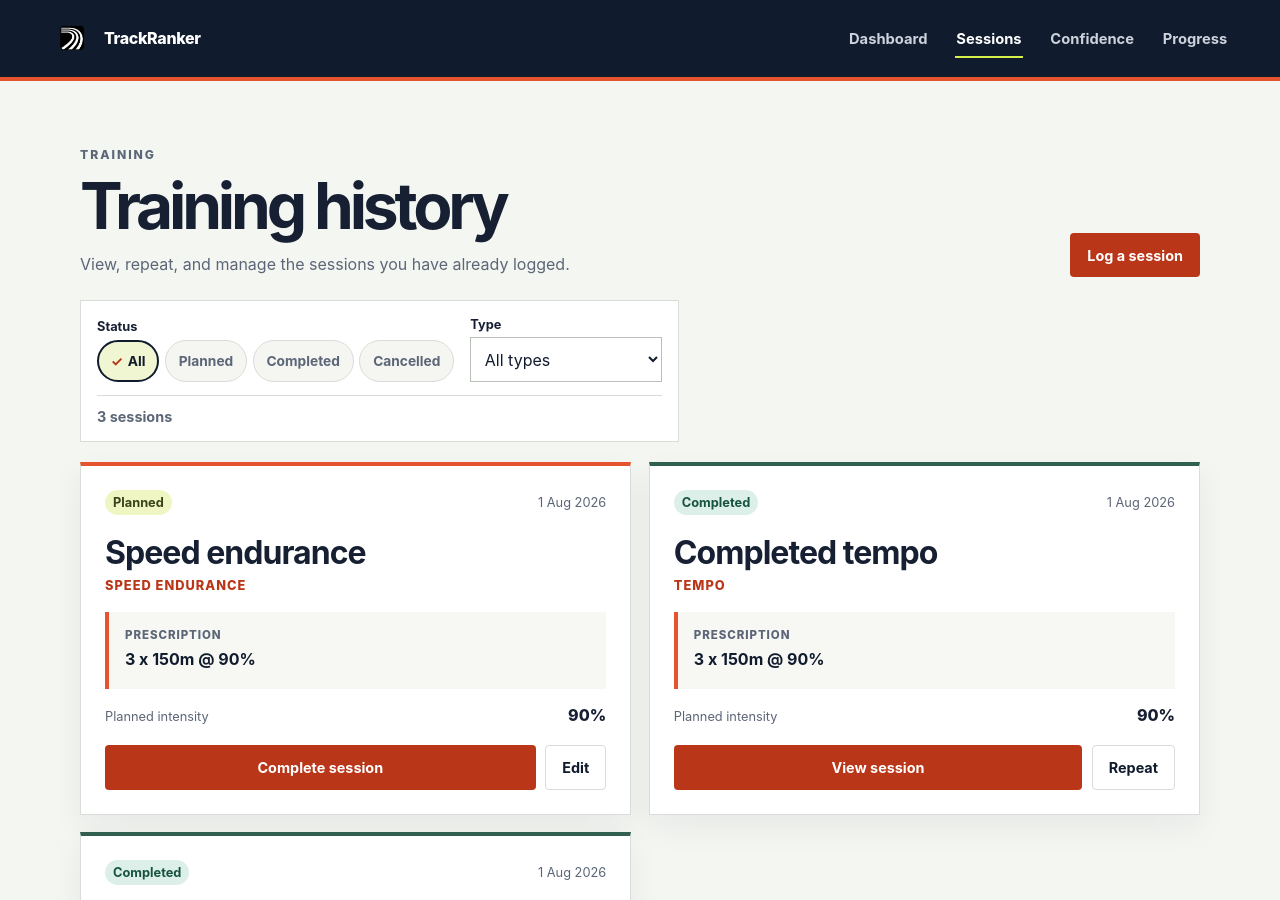
training sessions › filters sessions by Planned status through the Zustand-backed control
Step 1. Click the button "Planned" → [206, 361], box [165,340,247,382]
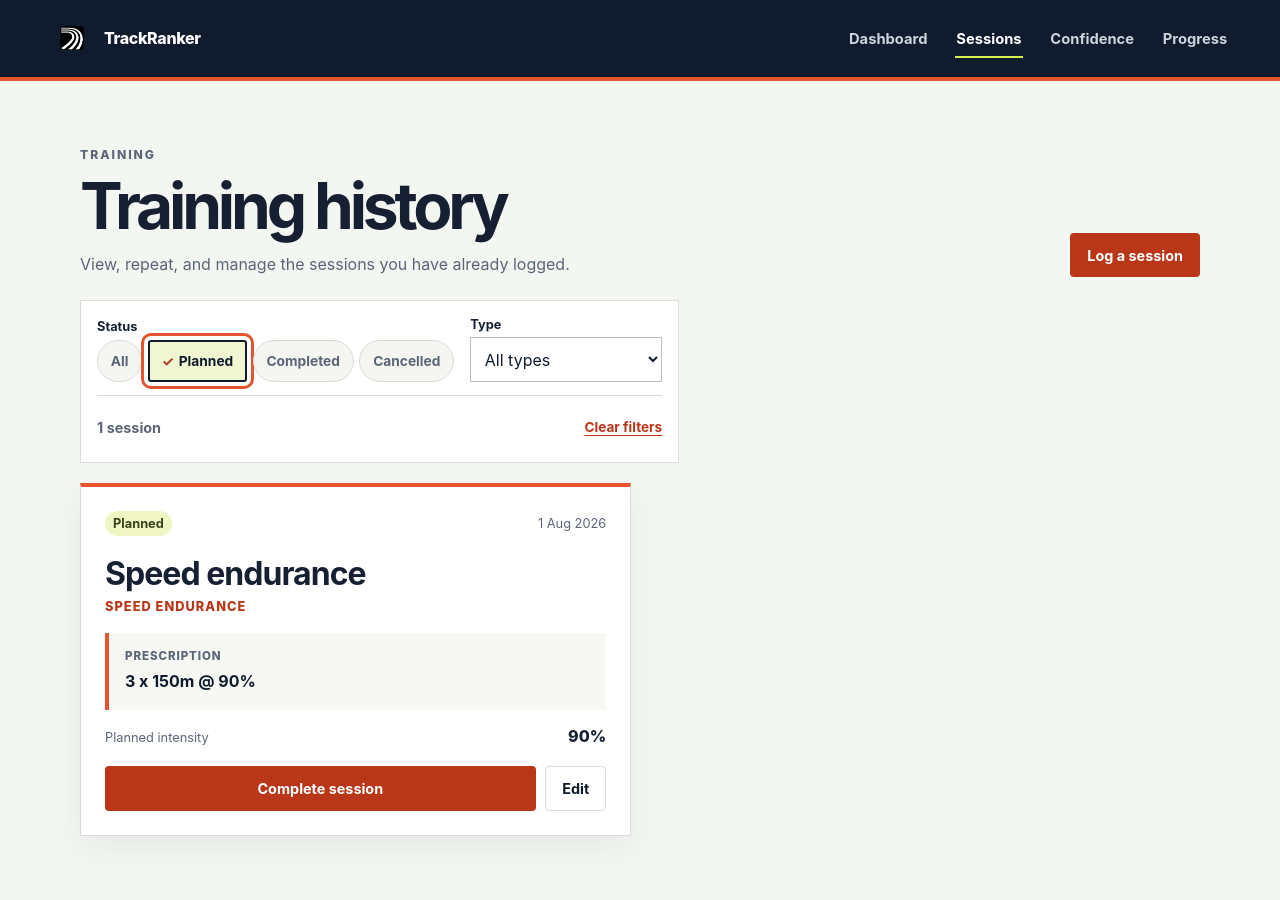
Expected: the heading "Speed endurance" is shown, [105,554,366,593]
Now the text "1 session" is shown, box [97,419,161,436]
Now the heading "Completed tempo" is gone
